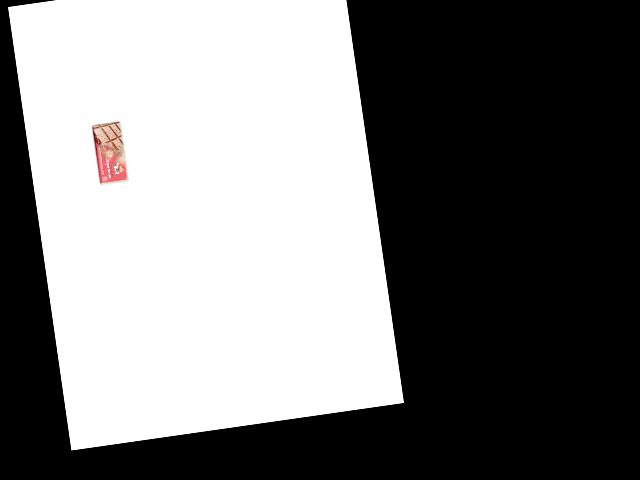chocolate: (90, 119, 130, 185)
